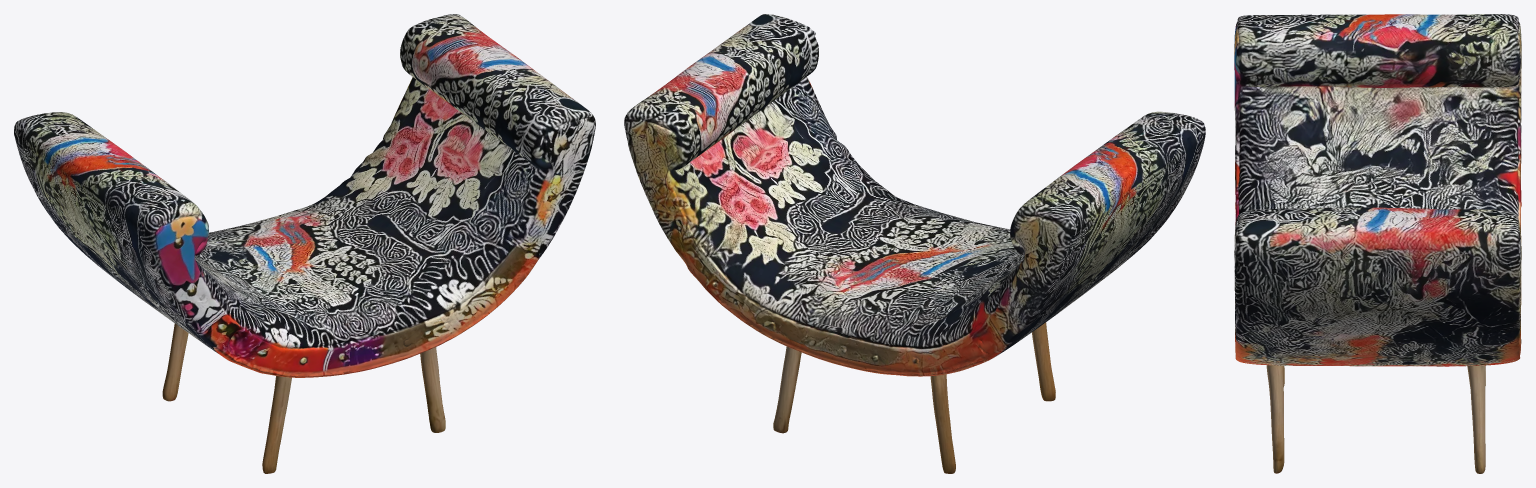
3 views of the same model, side by side, from view 1: azimuth 30°, elevation 25°; view 2: azimuth 150°, elevation 25°; view 3: azimuth 270°, elevation 25° (orthographic). The views are drawn at different scales.
Parts seen in each view (by area): view 1: model; view 2: model; view 3: model.
Boxes of the visible parts, bbox=[...] form: model: bbox=[14, 14, 595, 473]; model: bbox=[624, 14, 1205, 473]; model: bbox=[1234, 14, 1521, 473].
Size of the model in its own units: 1.44 by 0.93 by 0.7784.
1 material, 1 textured.
